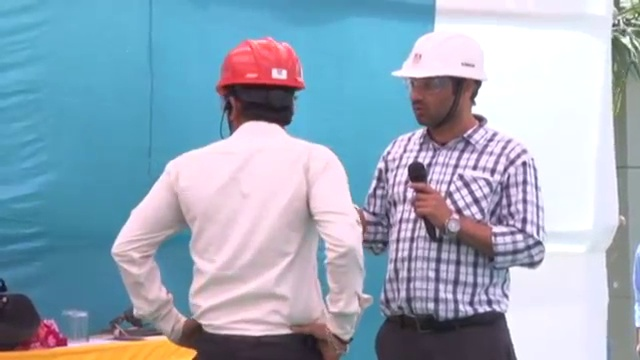helmet: (386, 29, 491, 89), (215, 38, 309, 92)
helmet_on: (386, 30, 492, 138), (215, 38, 308, 136)
person: (110, 37, 367, 360), (360, 30, 548, 360)
